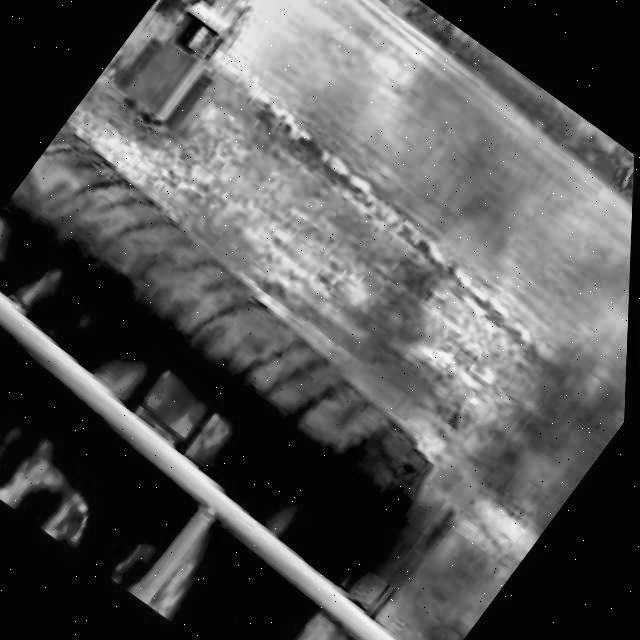Fire: (0, 326, 140, 555), (88, 335, 277, 488), (0, 219, 124, 353), (108, 495, 237, 623), (253, 610, 411, 640)
